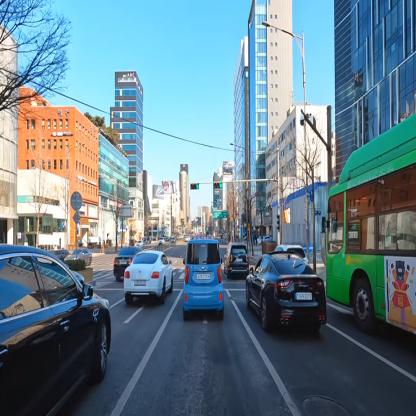Green: (189, 181, 200, 190), (213, 181, 223, 190)
